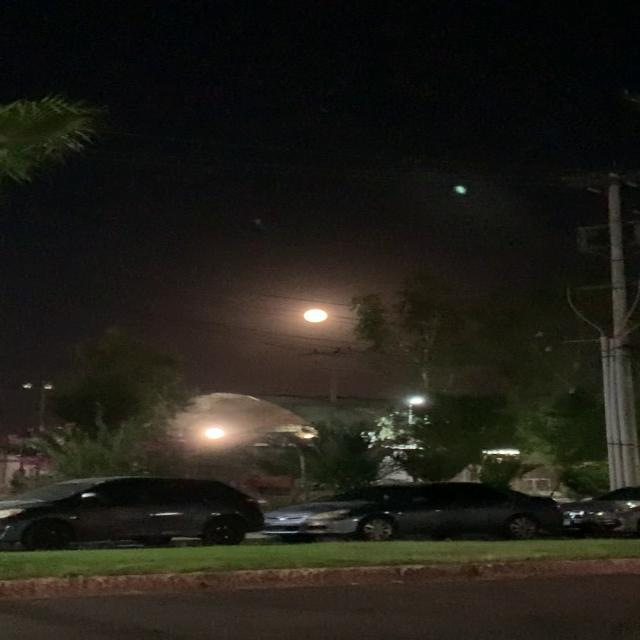moon: (301, 306, 330, 323)
